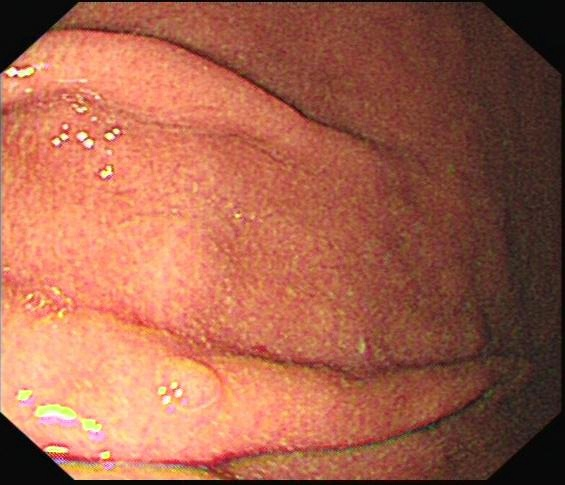Polyp: (154, 360, 243, 417)
